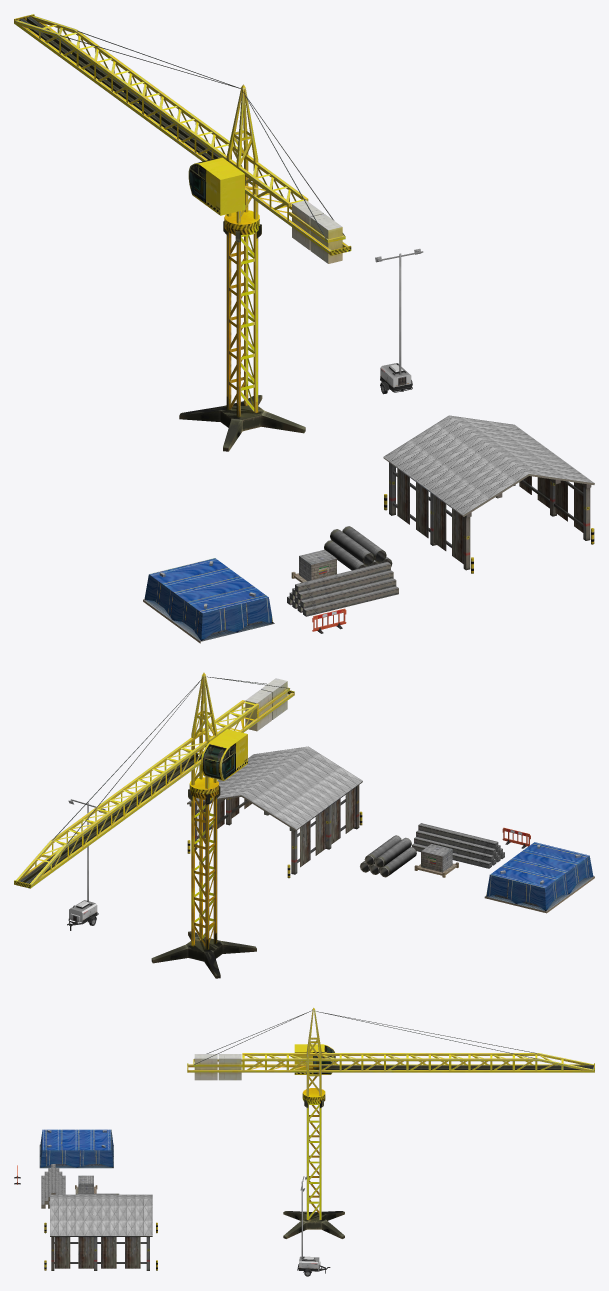
File: construction assets.fbx
3 views of the same model, one above another, from view 1: azimuth 30°, elevation 25°; view 2: azimuth 150°, elevation 25°; view 3: azimuth 270°, elevation 25° (orthographic). The views are drawn at different scales.
Parts seen in each view (by area): view 1: Construction2Props01, TowerCrane003, TowerCraneBase003, 001, Object001, object 5, Object002; view 2: Construction2Props01, TowerCrane003, 001, TowerCraneBase003, Object001, Object002, object 5; view 3: TowerCrane003, Construction2Props01, 001, TowerCraneBase003, Object001, object 5.
Boxes of the visible parts, x1,y1,x2,y2 form: Construction2Props01: [324, 415, 594, 573]; TowerCrane003: [14, 14, 351, 263]; TowerCraneBase003: [179, 221, 305, 451]; 001: [143, 558, 274, 643]; Object001: [287, 562, 398, 616]; object 5: [375, 248, 423, 394]; Object002: [291, 549, 336, 582]; Construction2Props01: [187, 746, 416, 878]; TowerCrane003: [14, 672, 294, 888]; 001: [484, 842, 594, 913]; TowerCraneBase003: [151, 786, 256, 978]; Object001: [412, 823, 504, 868]; Object002: [414, 844, 458, 877]; object 5: [67, 799, 105, 930]; TowerCrane003: [187, 1007, 594, 1100]; Construction2Props01: [44, 1193, 157, 1270]; 001: [39, 1129, 113, 1168]; TowerCraneBase003: [283, 1096, 344, 1238]; Object001: [41, 1164, 65, 1208]; object 5: [297, 1176, 330, 1276].
Bounding box in the file's own units: 1159 × 886 × 2131.
4 materials, 4 textured.
